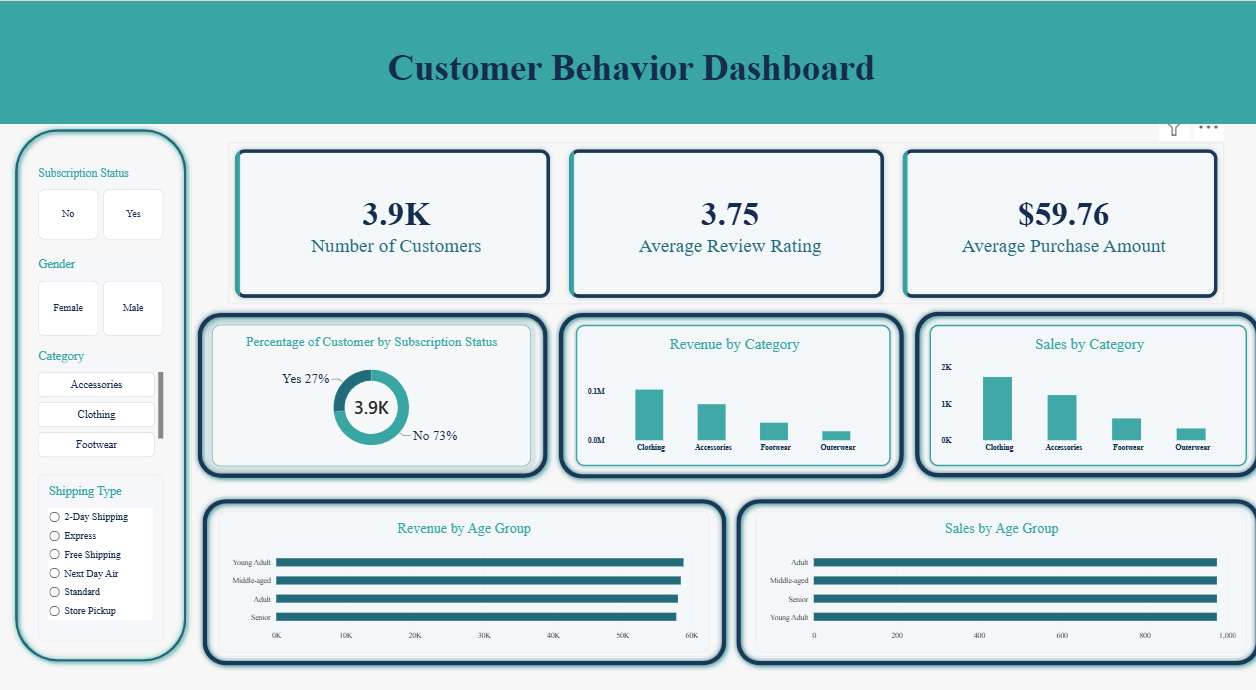

The dashboard page shown, as its layout file describes it:
{"tool":"powerbi","page":{"name":"Page 1","canvas":[2030,1111],"ordinal":0},"visuals":[{"type":"cardVisual","fields":{"Data":["public customers.Number of Customers","public customers.Average Review Rating","public customers.Average Purchase Amount"]},"box":[370,226,1594,260],"z":0},{"type":"shape","box":[0,0,1920,196.7],"z":1000},{"type":"textbox","box":[0,0,2030,196.7],"z":2000},{"type":"donutChart","title":"Percentage of Customer by Subscription Status","fields":{"Category":["public customers.subscription_status"],"Y":["CountNonNull(public customers.customer_id)"]},"box":[344,518,510,226],"z":3000},{"type":"shape","box":[312,490,578,282],"z":4000},{"type":"shape","box":[890,490,570,283],"z":5000},{"type":"shape","box":[1460,488,570,283.3],"z":6000},{"type":"clusteredColumnChart","title":"Revenue by Category","fields":{"Category":["public customers.category"],"Y":["Sum(public customers.purchase_amount_usd)"]},"box":[926,518,504,226],"z":7000},{"type":"clusteredColumnChart","title":"Sales by Category","fields":{"Category":["public customers.category"],"Y":["CountNonNull(public customers.customer_id)"]},"box":[1492,518,508,226],"z":8000},{"type":"shape","box":[20,196,292,870],"z":9000},{"type":"advancedSlicerVisual","title":"Subscription Status","fields":{"Values":["public customers.subscription_status"]},"box":[66,264,200,118],"z":10000},{"type":"advancedSlicerVisual","title":"Gender","fields":{"Values":["public customers.gender"]},"box":[66,410,200,126],"z":11000},{"type":"advancedSlicerVisual","title":"Category","fields":{"Values":["public customers.category"]},"box":[66,556,200,174],"z":12000},{"type":"listSlicer","title":"Shipping Type","fields":{"Values":["public customers.shipping_type"]},"box":[66,758,200,266],"z":13000},{"type":"clusteredBarChart","title":"Revenue by Age Group","fields":{"Category":["public customers.age_group"],"Y":["Sum(public customers.purchase_amount_usd)"]},"box":[353.3,816.7,785.6,226.7],"z":14000},{"type":"shape","box":[1174,788,856,284],"z":15000},{"type":"shape","box":[320,788,856,284],"z":16000},{"type":"clusteredBarChart","title":"Sales by Age Group","fields":{"Category":["public customers.age_group"],"Y":["CountNonNull(public customers.customer_id)"]},"box":[1214,816,785.6,226.7],"z":17000}]}

Visuals, with their boxes in screenshot pixels (x1, y1, x2, y2), scaled from the page's 2030x1111 canvas onto the 1256x690 screenshot:
cardVisual - public customers.Number of Customers x public customers.Average Review Rating: [229, 140, 1215, 302]
shape: [0, 0, 1188, 122]
textbox: [0, 0, 1255, 122]
"Percentage of Customer by Subscription Status" donutChart: [213, 322, 528, 462]
shape: [193, 304, 551, 479]
shape: [551, 304, 903, 480]
shape: [903, 303, 1255, 479]
"Revenue by Category" clusteredColumnChart: [573, 322, 885, 462]
"Sales by Category" clusteredColumnChart: [923, 322, 1237, 462]
shape: [12, 122, 193, 662]
"Subscription Status" advancedSlicerVisual: [41, 164, 165, 237]
"Gender" advancedSlicerVisual: [41, 255, 165, 333]
"Category" advancedSlicerVisual: [41, 345, 165, 453]
"Shipping Type" listSlicer: [41, 471, 165, 636]
"Revenue by Age Group" clusteredBarChart: [219, 507, 705, 648]
shape: [726, 489, 1255, 666]
shape: [198, 489, 728, 666]
"Sales by Age Group" clusteredBarChart: [751, 507, 1237, 648]
